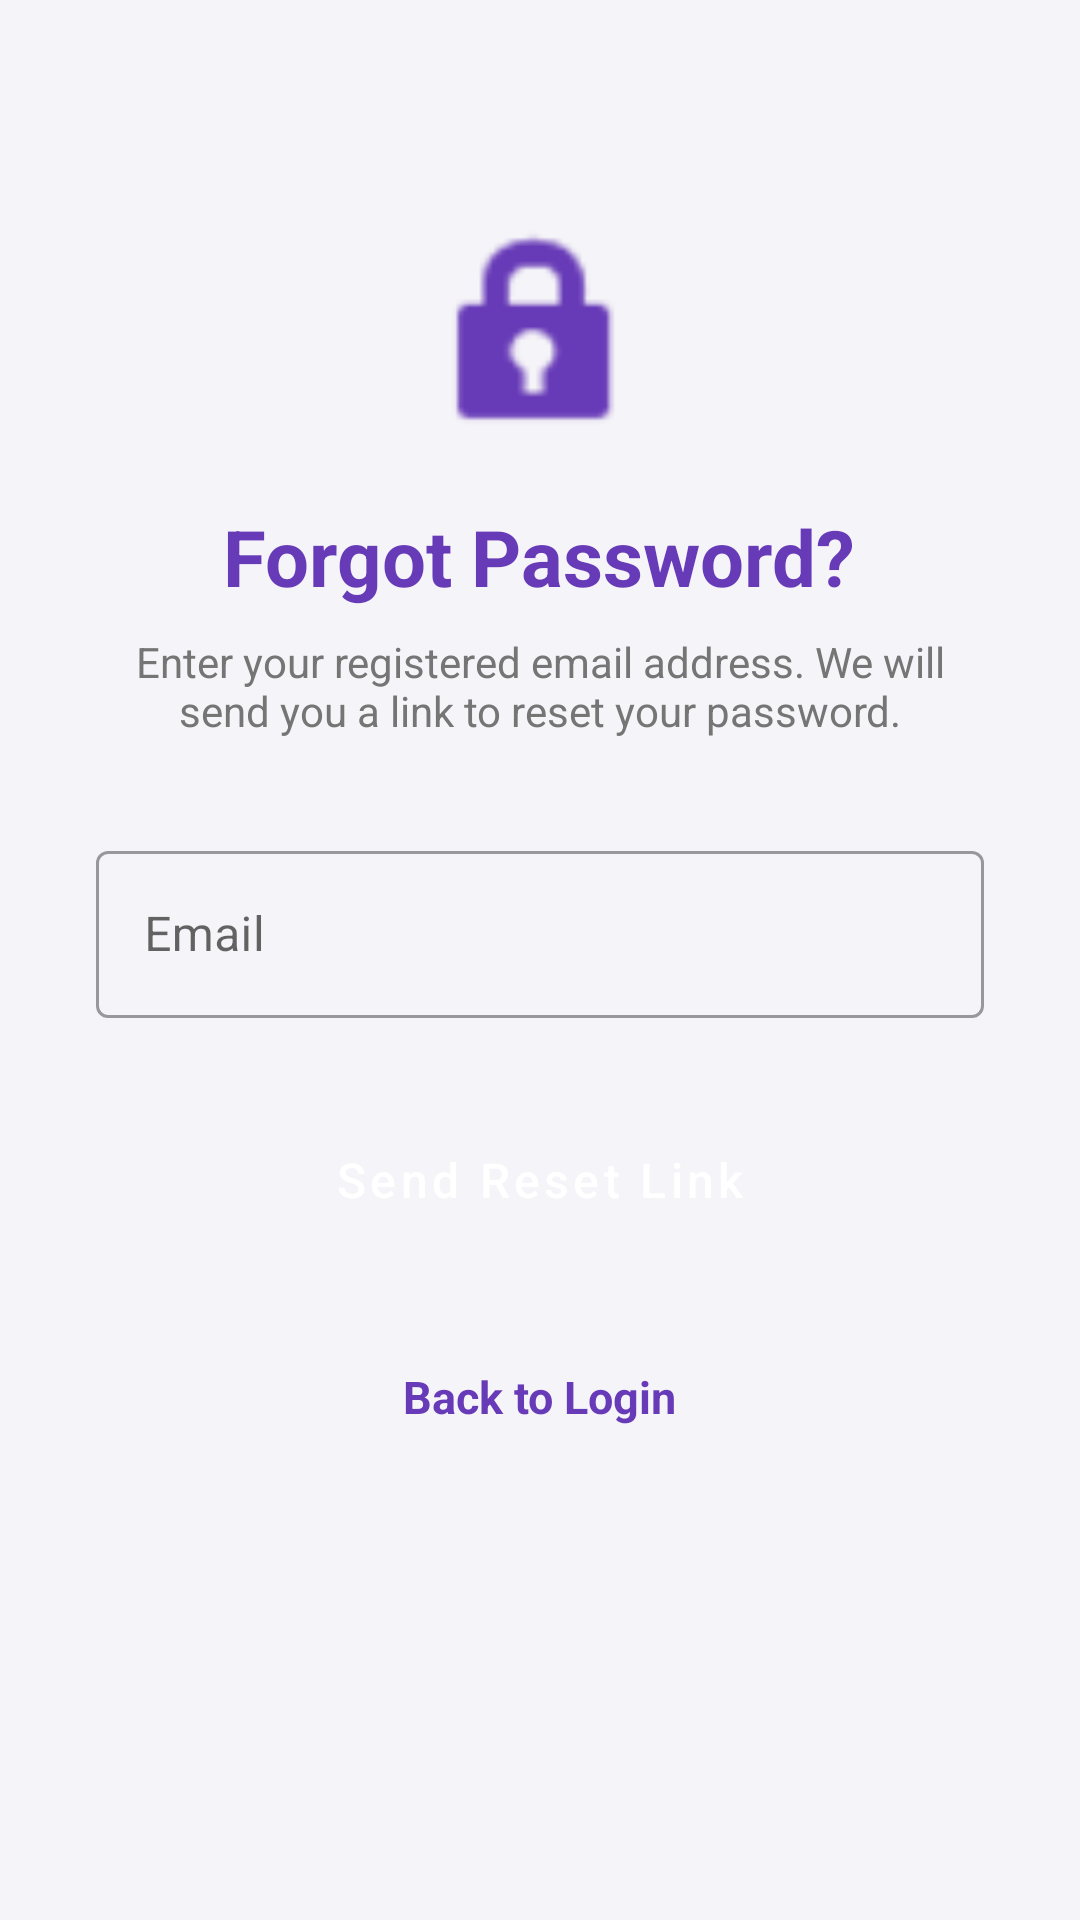

Icons on this 1080w x 1920h Android screen, each with its box as (x1, y1, x2, y2):
lock idle: (456, 236, 613, 420)
